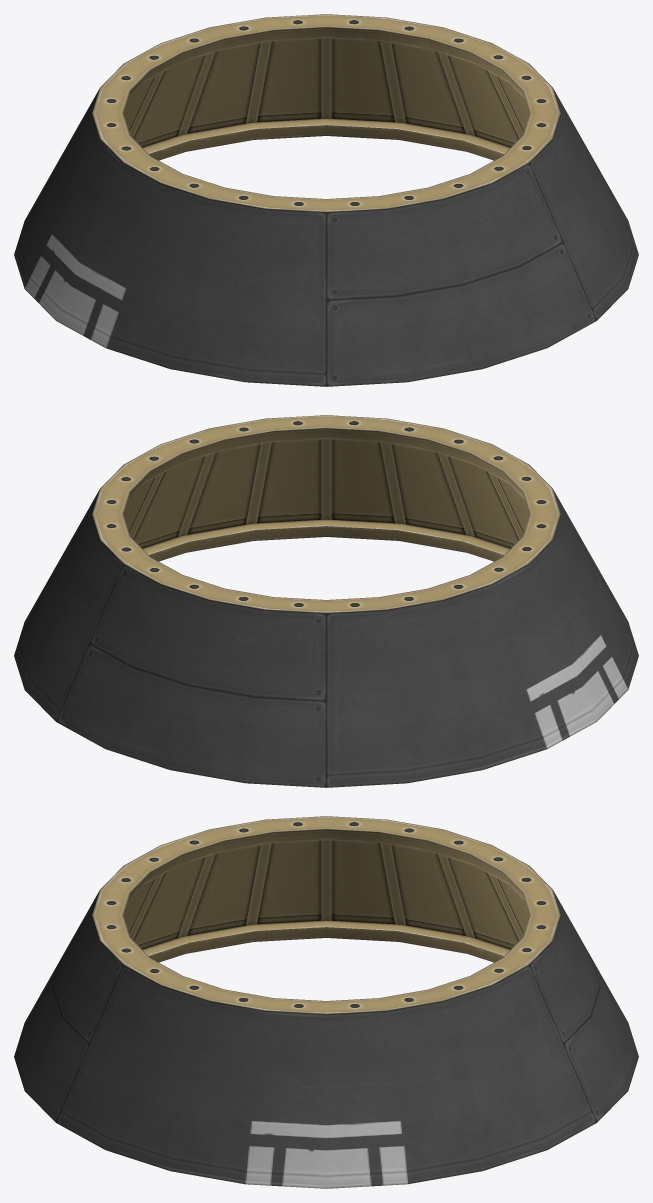
The model's file is rotanev_aeroshell_s2_s1p5_1.obj.
3 renders of one model, top to bottom at view 1: azimuth 30°, elevation 25°; view 2: azimuth 150°, elevation 25°; view 3: azimuth 270°, elevation 25°, orthographic.
Parts seen in each view (by area): view 1: rotanev_aeroshell_s2_s1p5_1; view 2: rotanev_aeroshell_s2_s1p5_1; view 3: rotanev_aeroshell_s2_s1p5_1.
Boxes of the visible parts, left/top/right/bottom form: rotanev_aeroshell_s2_s1p5_1: left=14, top=14, right=638, bottom=386; rotanev_aeroshell_s2_s1p5_1: left=14, top=415, right=638, bottom=787; rotanev_aeroshell_s2_s1p5_1: left=14, top=816, right=638, bottom=1188.
Size of the model in its own units: 2.5 by 0.625 by 2.5.
